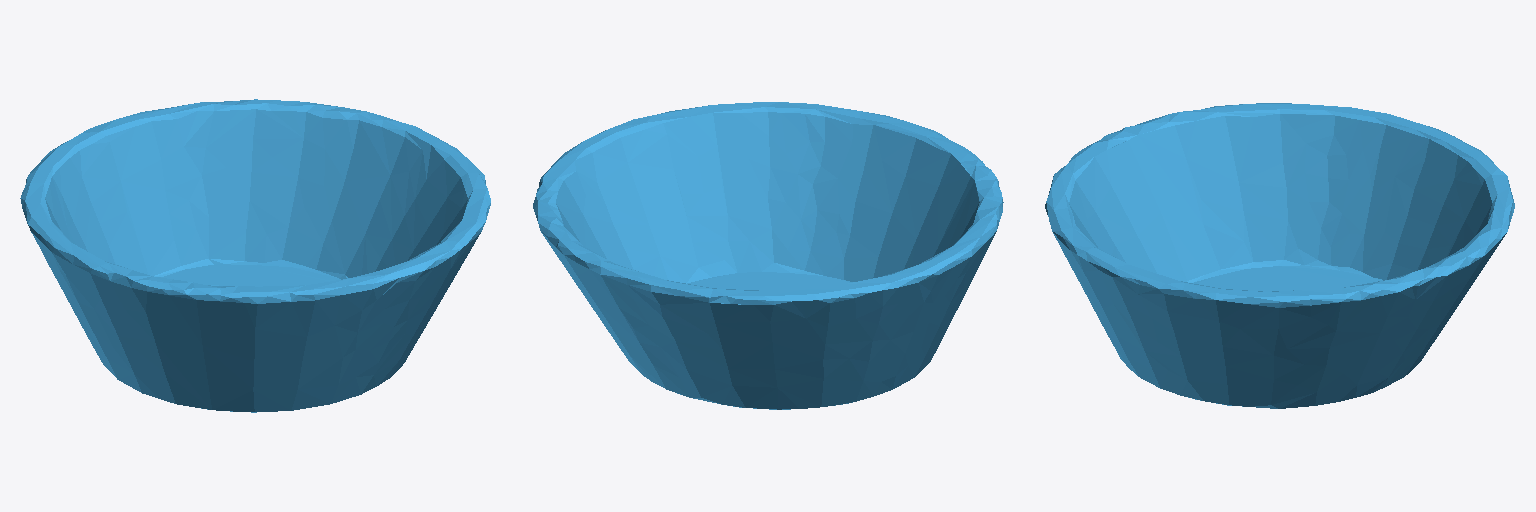
URDF robot description (Bowl_8e840ba109f252534c6955b188e290e0_M):
<?xml version="1.0"?>
<robot name="Bowl_8e840ba109f252534c6955b188e290e0_M">
  <link name="base"/>
  <link name="link_0">
  <visual>
    <origin xyz="0.0 0.0 0.0"/>
    <geometry>
      <mesh filename="Bowl_8e840ba109f252534c6955b188e290e0_M.obj" scale="1.0 1.0 1.0"/>
    </geometry>
  </visual>
  <collision>
    <origin xyz="0.0 0.0 0.0"/>
    <geometry>
      <mesh filename="collision.obj" scale="1.0 1.0 1.0"/>
    </geometry>
  </collision>
  </link>
  <joint name="joint_0" type="fixed">
    <origin rpy="0 0 0" xyz="0 0 0"/>
    <child link="link_0"/>
    <parent link="base"/>
  </joint>
</robot>

--- What the picture shows (computed from the rendered views, not written in the file) ---
The picture shows the robot from 3 angles, left to right: view 1: azimuth 30°, elevation 25°; view 2: azimuth 150°, elevation 25°; view 3: azimuth 270°, elevation 25°; orthographic projection.
Robot: Bowl_8e840ba109f252534c6955b188e290e0_M — 2 links, 1 joints (1 fixed); root link base; default pose: every joint at zero.
Visible links, largest first — view 1: link_0; view 2: link_0; view 3: link_0.
Boxes of the visible links, x1=… form: link_0: x1=20, y1=99, x2=490, y2=412; link_0: x1=533, y1=102, x2=1003, y2=409; link_0: x1=1045, y1=103, x2=1514, y2=408.
Bounding box of the posed robot: 0.2077 × 0.208 × 0.0726 m (x, y, z).
1 mesh visuals loaded from 1 distinct referenced files (1 OBJ).